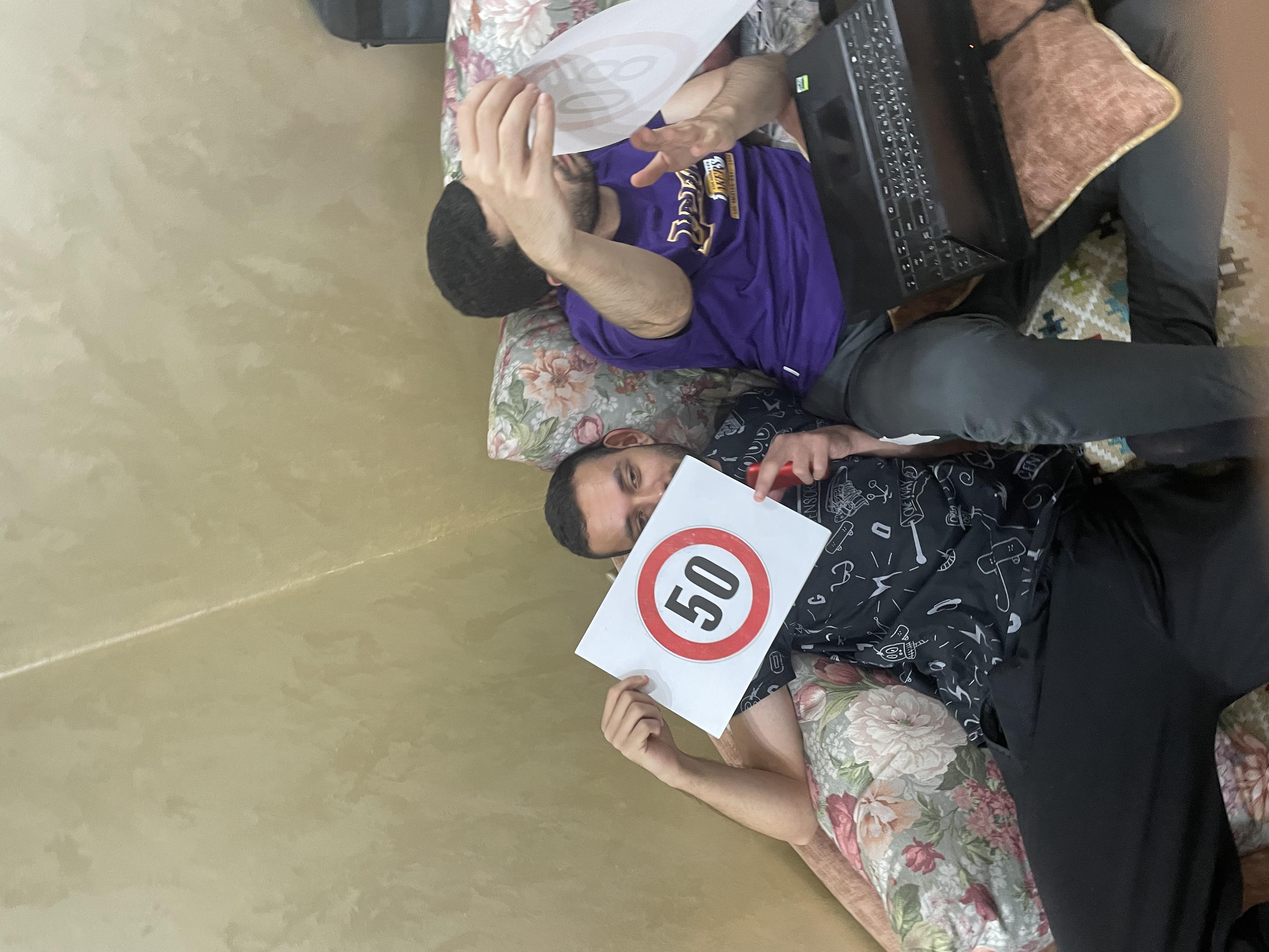50-Speed: (391, 476, 564, 581)
